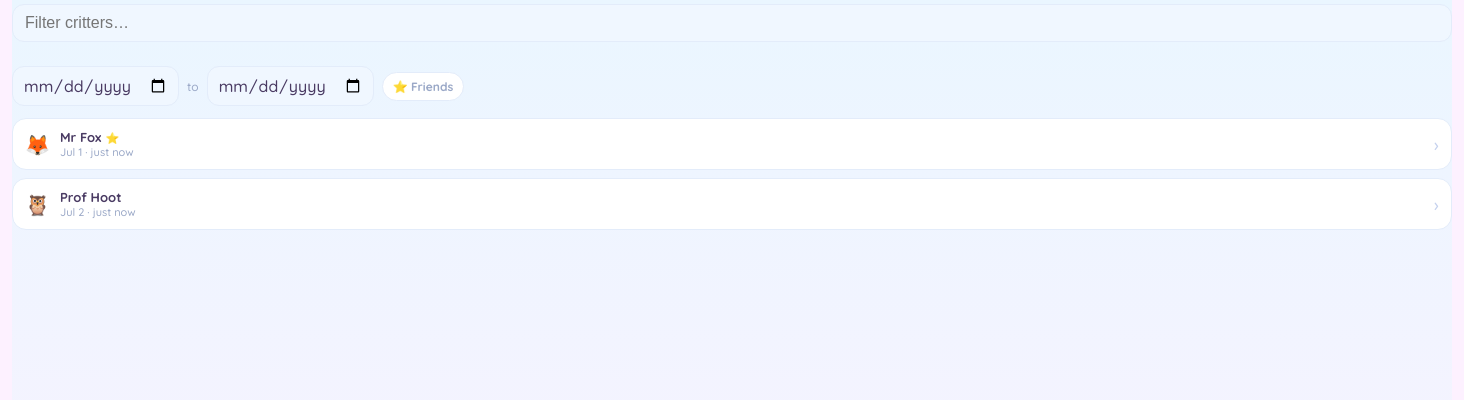
it: friends filter › chip toggles aria-pressed and filters to friends
Click the button "⭐ Friends": (423, 86) [382,72,464,100]
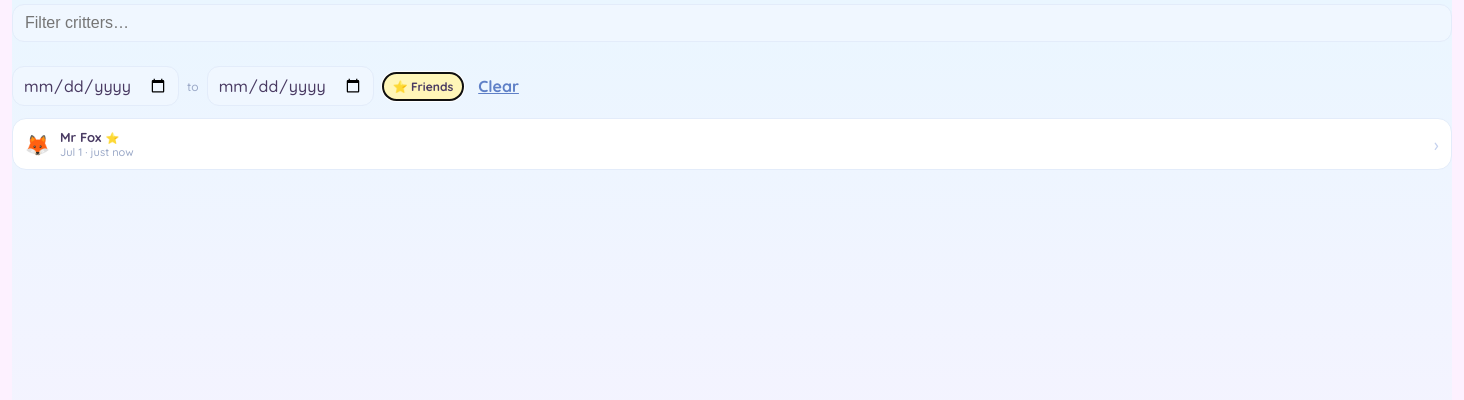
Expected: the text "Mr Fox" is shown, [60,129,102,145]
Result: the button "Prof Hoot" is gone
